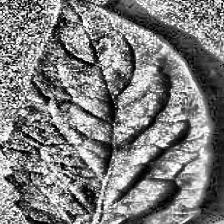spider mites: (5, 0, 211, 224)
